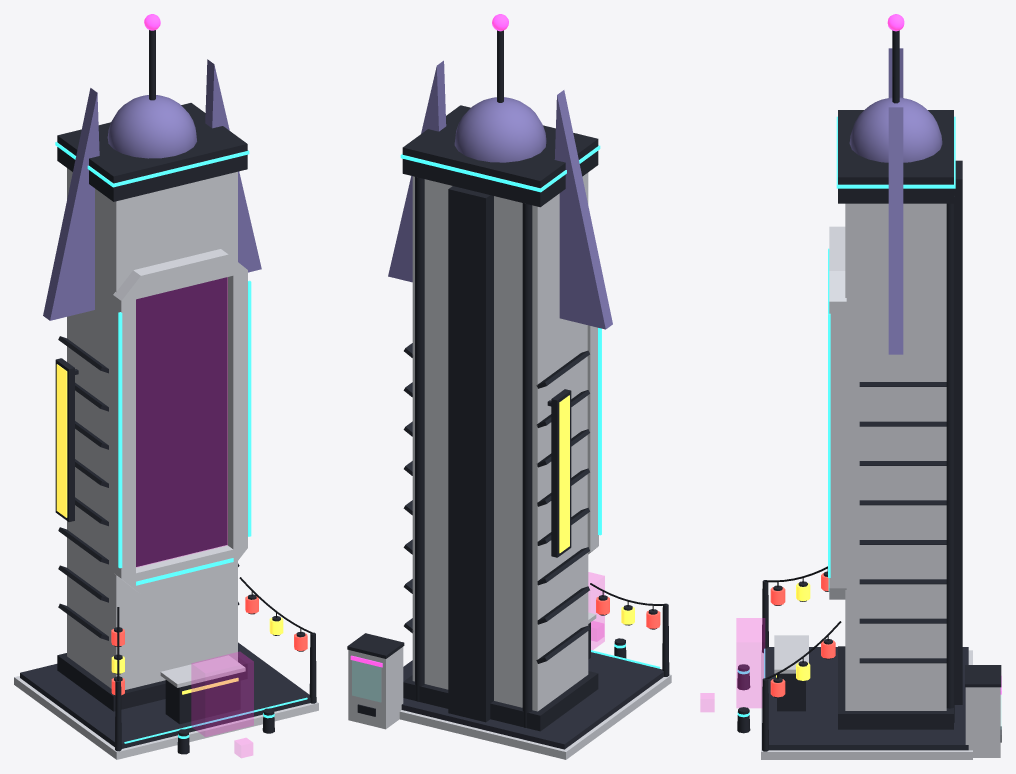
File: AAT_TopWaves.glb
The picture shows the model from 3 angles, left to right: view 1: azimuth 30°, elevation 25°; view 2: azimuth 150°, elevation 25°; view 3: azimuth 270°, elevation 25°; orthographic projection. The views are drawn at different scales.
Visible parts, largest first — view 1: Wall_TowerCore__pearl, MK_Screen_TopWaves, TopWavesScreen__screen, TopWavesDeco__pearl, TopWavesDeco__graphite, TopWavesDeco__lavender, Floor_TopWavesPlinth__floor, MK_Station_TopWaves, TopWavesDeco__bio, Wall_TopWavesKiosk__graphite, TopWavesDeco__amber, TopWavesDeco__lantern; view 2: TopWavesDeco__graphite, Wall_TowerCore__pearl, TopWavesDeco__lavender, TopWavesDeco__pearl, Floor_TopWavesPlinth__floor, TopWavesDeco__bio, TopWavesDeco__amber, TopWavesDeco__glass, MK_Station_TopWaves; view 3: Wall_TowerCore__pearl, TopWavesDeco__graphite, TopWavesDeco__pearl, Floor_TopWavesPlinth__floor, TopWavesDeco__lavender, MK_Station_TopWaves, TopWavesDeco__bio, Wall_TopWavesKiosk__graphite, TopWavesDeco__lantern.
Part boxes in pixels (x1,y1,x2,y2): Wall_TowerCore__pearl: [67, 168, 237, 689]; MK_Screen_TopWaves: [136, 277, 227, 567]; TopWavesScreen__screen: [136, 277, 226, 566]; TopWavesDeco__pearl: [14, 249, 318, 759]; TopWavesDeco__graphite: [55, 30, 316, 754]; TopWavesDeco__lavender: [43, 59, 261, 320]; Floor_TopWavesPlinth__floor: [20, 642, 310, 748]; MK_Station_TopWaves: [191, 652, 253, 736]; TopWavesDeco__bio: [55, 142, 307, 743]; Wall_TopWavesKiosk__graphite: [165, 672, 240, 724]; TopWavesDeco__amber: [56, 364, 283, 694]; TopWavesDeco__lantern: [111, 596, 307, 695]; TopWavesDeco__graphite: [347, 30, 669, 731]; Wall_TowerCore__pearl: [412, 172, 588, 711]; TopWavesDeco__lavender: [388, 60, 612, 329]; TopWavesDeco__pearl: [348, 325, 671, 759]; Floor_TopWavesPlinth__floor: [401, 652, 663, 749]; TopWavesDeco__bio: [400, 145, 660, 668]; TopWavesDeco__amber: [559, 395, 634, 624]; TopWavesDeco__glass: [352, 660, 380, 701]; MK_Station_TopWaves: [588, 572, 604, 649]; Wall_TowerCore__pearl: [845, 203, 946, 710]; TopWavesDeco__graphite: [737, 30, 1001, 751]; TopWavesDeco__pearl: [761, 226, 1000, 759]; Floor_TopWavesPlinth__floor: [765, 647, 968, 750]; TopWavesDeco__lavender: [849, 48, 942, 354]; MK_Station_TopWaves: [736, 618, 764, 707]; TopWavesDeco__bio: [737, 116, 955, 717]; Wall_TopWavesKiosk__graphite: [777, 673, 805, 711]; TopWavesDeco__lantern: [770, 573, 835, 697].
Size of the model in its own units: 17.4 by 52.8 by 20.79.
